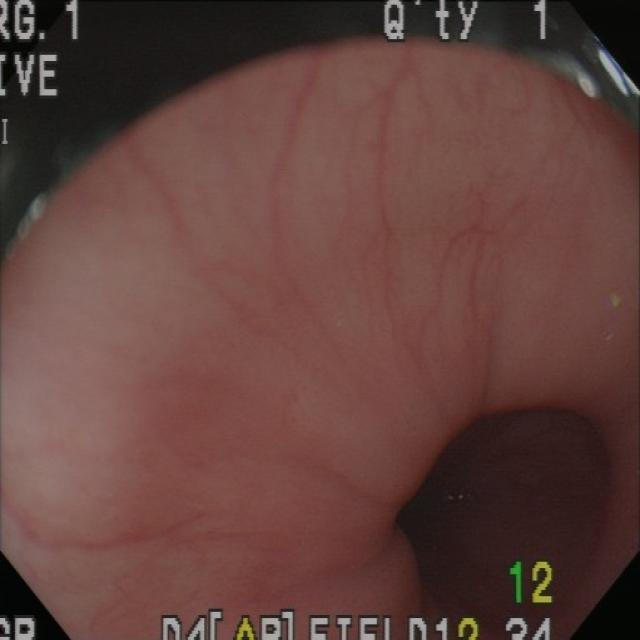E: (393, 403, 610, 618)
S: (160, 608, 483, 640), (383, 3, 558, 45), (3, 3, 83, 45), (3, 50, 63, 101), (507, 558, 556, 608), (506, 614, 556, 640), (2, 614, 39, 640)
U: (5, 194, 50, 259), (597, 42, 640, 106), (568, 57, 600, 103)
